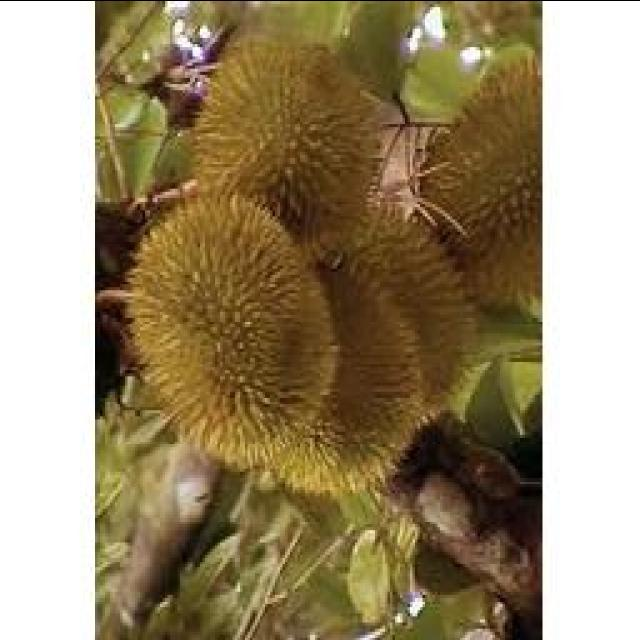fruit: (107, 166, 515, 517), (165, 6, 433, 246)
